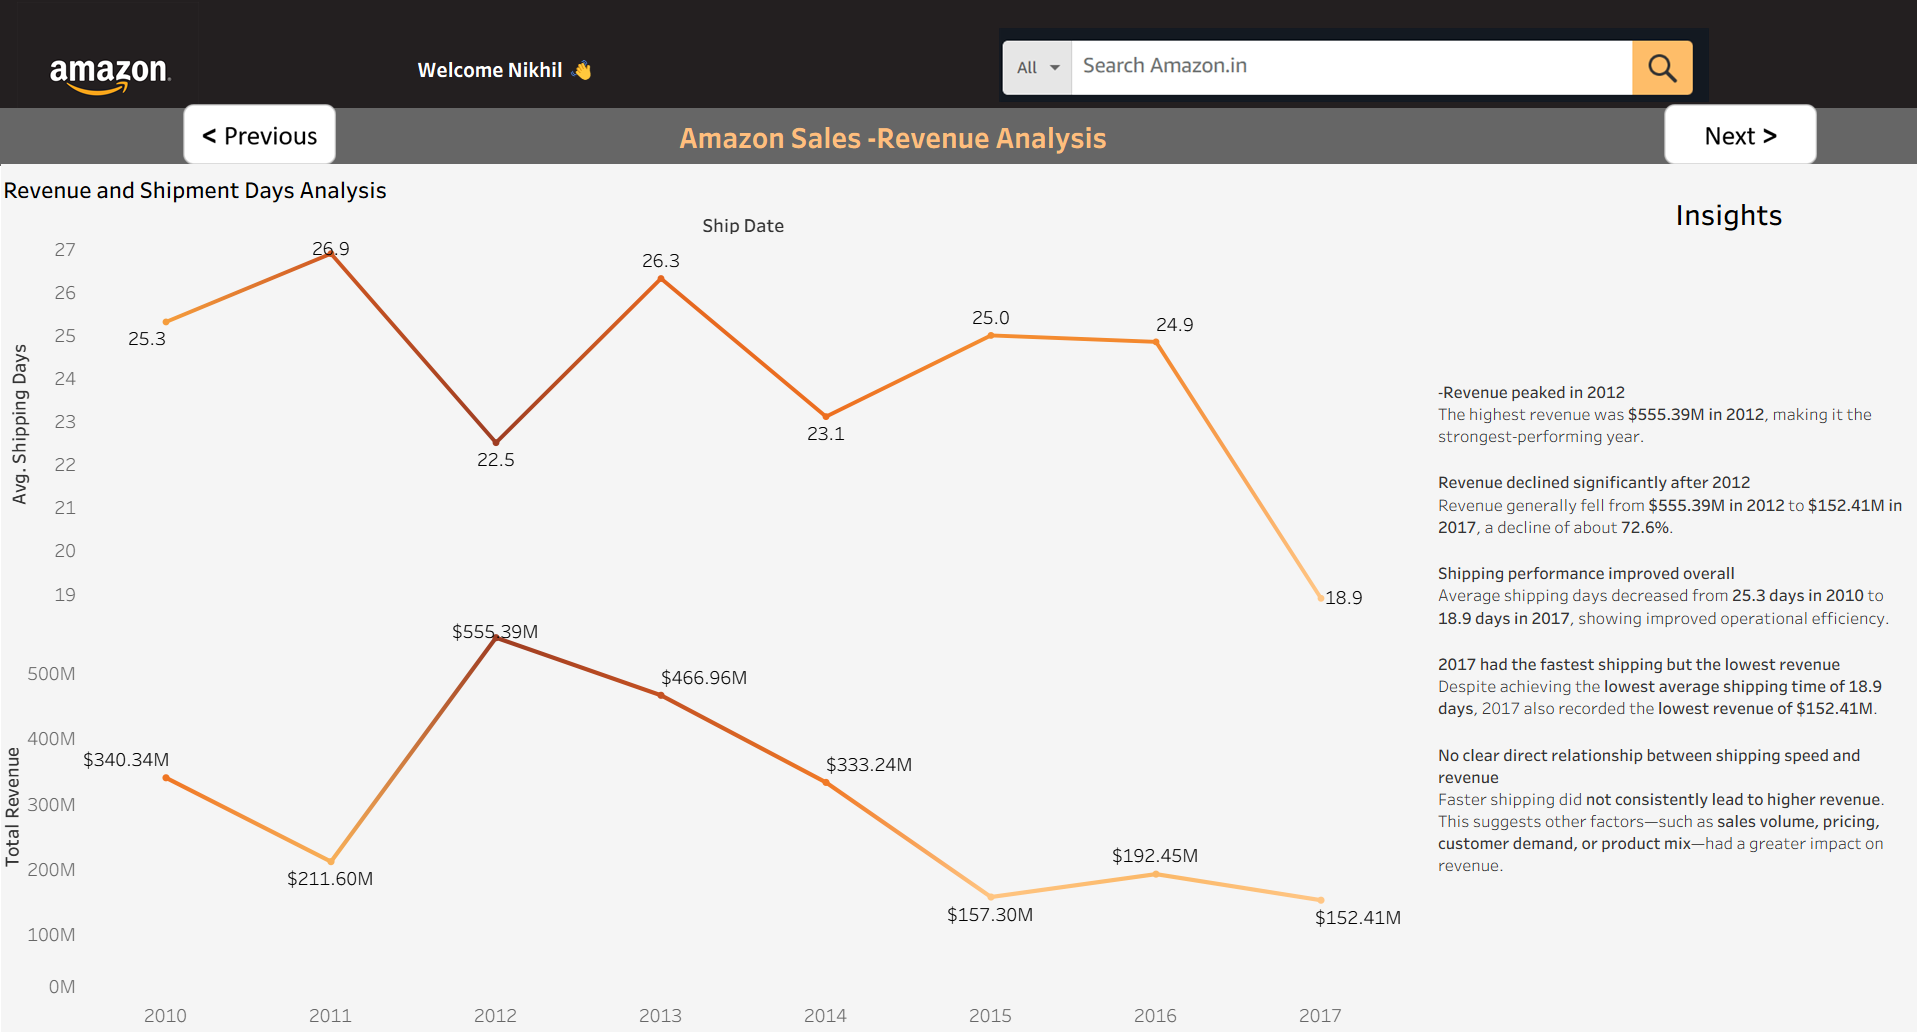

What the dashboard file says about the page in this screenshot:
{"tool":"tableau","page":{"name":"Revenue Analysis","canvas":[1000,1000],"units":"permille","ordinal":4},"visuals":[{"type":"image","param":"C:/Users/hp/Downloads/amazon-dark-logo-png-transparent.png","box":[8.4,1.2,130.5,147.6]},{"type":"text","box":[215.3,47.1,135.9,37.2]},{"type":"dashboard-object","box":[85.7,100.5,99.6,64.5]},{"type":"dashboard-object","box":[856.6,100.5,99.6,64.5]},{"type":"text","box":[351.8,104.2,306.7,54.6]},{"type":"blank","box":[0.6,158.8,998.1,846.1]},{"type":"text","box":[845.4,181.1,110.4,50.9]},{"type":"text","box":[746.9,240.7,245.6,748.1]}]}

Visuals, with their boxes on the dashboard's canvas, which has no fixed pixel size, in thousandths of its width and height (x1, y1, x2, y2). These are canvas units, not pixel positions in the 1917x1032 screenshot, which may show the page scaled, cropped or inside an application window:
image: bbox=[8, 1, 139, 149]
text: bbox=[215, 47, 351, 84]
dashboard-object: bbox=[86, 100, 185, 165]
dashboard-object: bbox=[857, 100, 956, 165]
text: bbox=[352, 104, 658, 159]
blank: bbox=[1, 159, 999, 1005]
text: bbox=[845, 181, 956, 232]
text: bbox=[747, 241, 992, 989]
